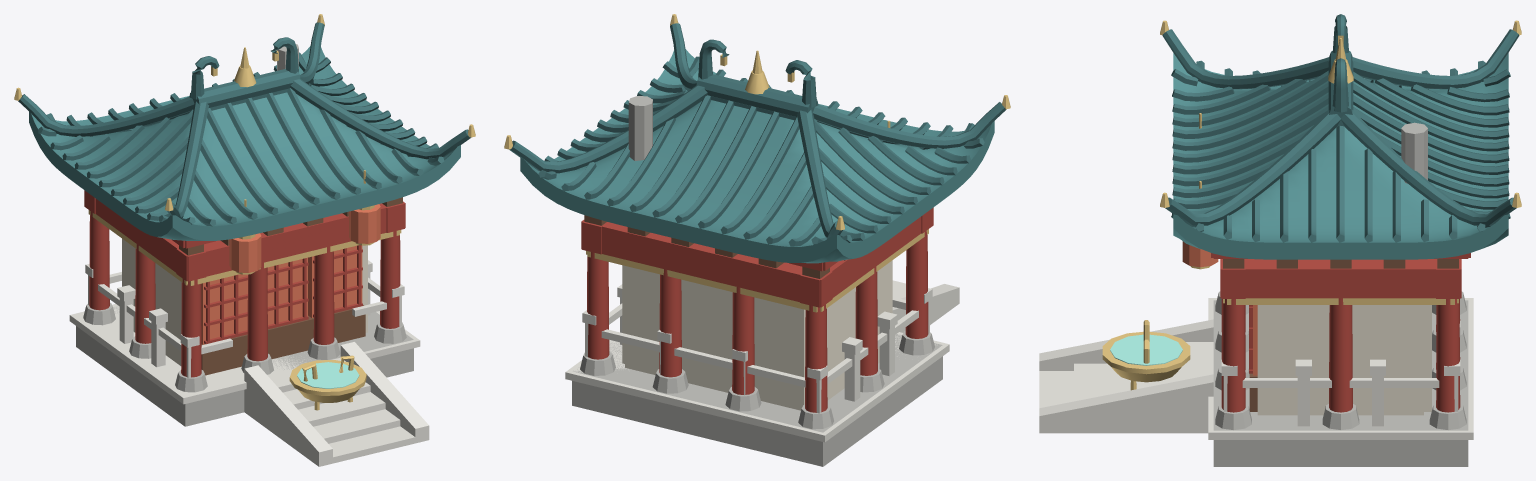
Rendered from SonMon_alchemy.fbx.
The picture shows the model from 3 angles, left to right: view 1: azimuth 30°, elevation 25°; view 2: azimuth 150°, elevation 25°; view 3: azimuth 270°, elevation 25°; orthographic projection. The views are drawn at different scales.
Parts seen in each view (by area): view 1: alchemy; view 2: alchemy; view 3: alchemy.
Boxes of the visible parts, box(x1,y1,x2,y2) form: alchemy: box(14, 14, 475, 466); alchemy: box(504, 14, 1010, 466); alchemy: box(1039, 14, 1521, 466).
Bounding box in the file's own units: 3.12 × 2.99 × 3.6.
